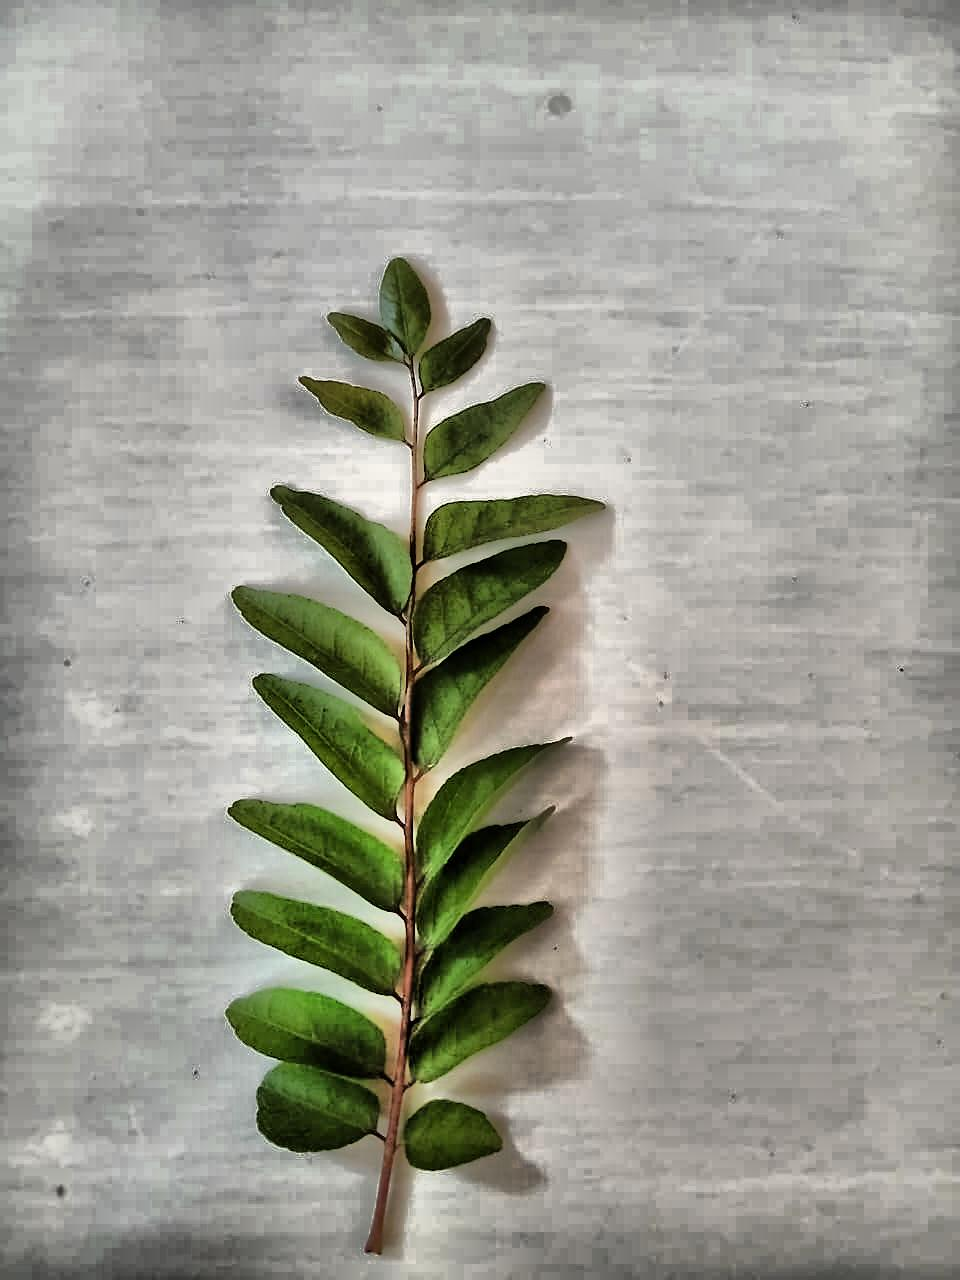daun kari: (227, 259, 603, 1252)
